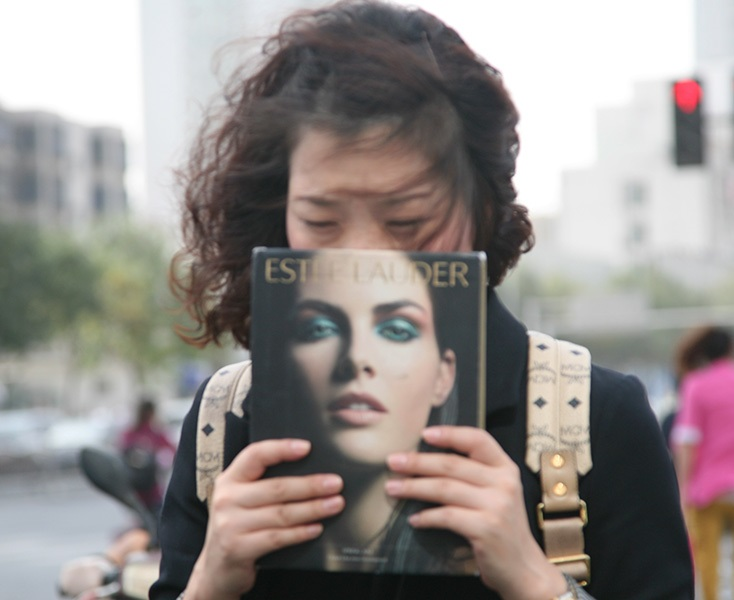face: (287, 121, 469, 338), (272, 258, 436, 459)
